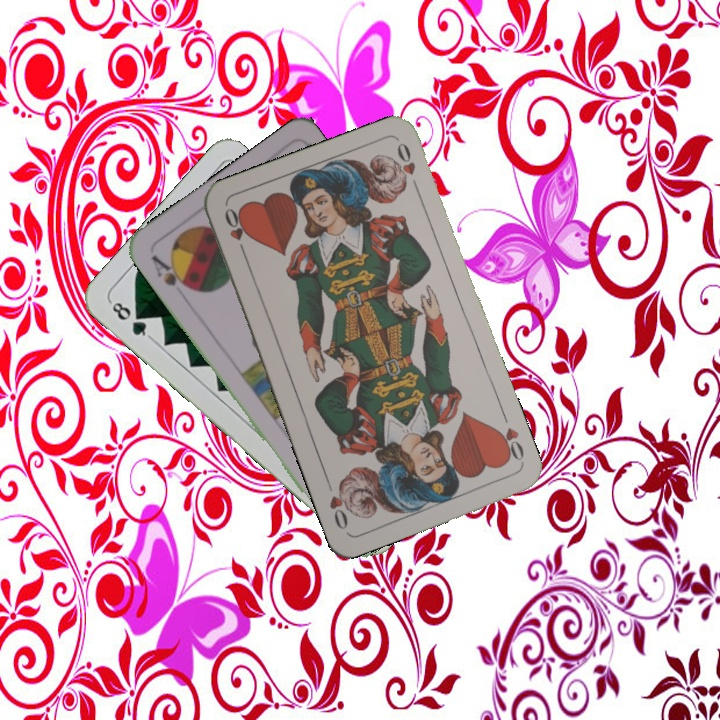G8: (106, 297, 154, 341)
HO: (220, 203, 250, 261), (491, 423, 527, 467)
SA: (147, 251, 195, 293)
